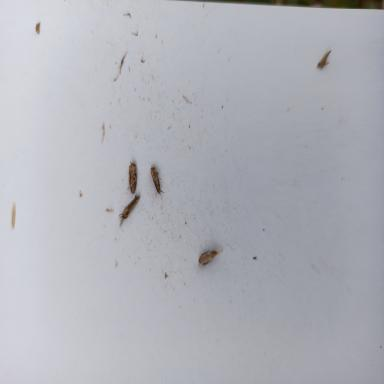pbw: (118, 194, 140, 226), (149, 166, 165, 201), (198, 248, 222, 267), (127, 160, 137, 194), (317, 49, 331, 68)
